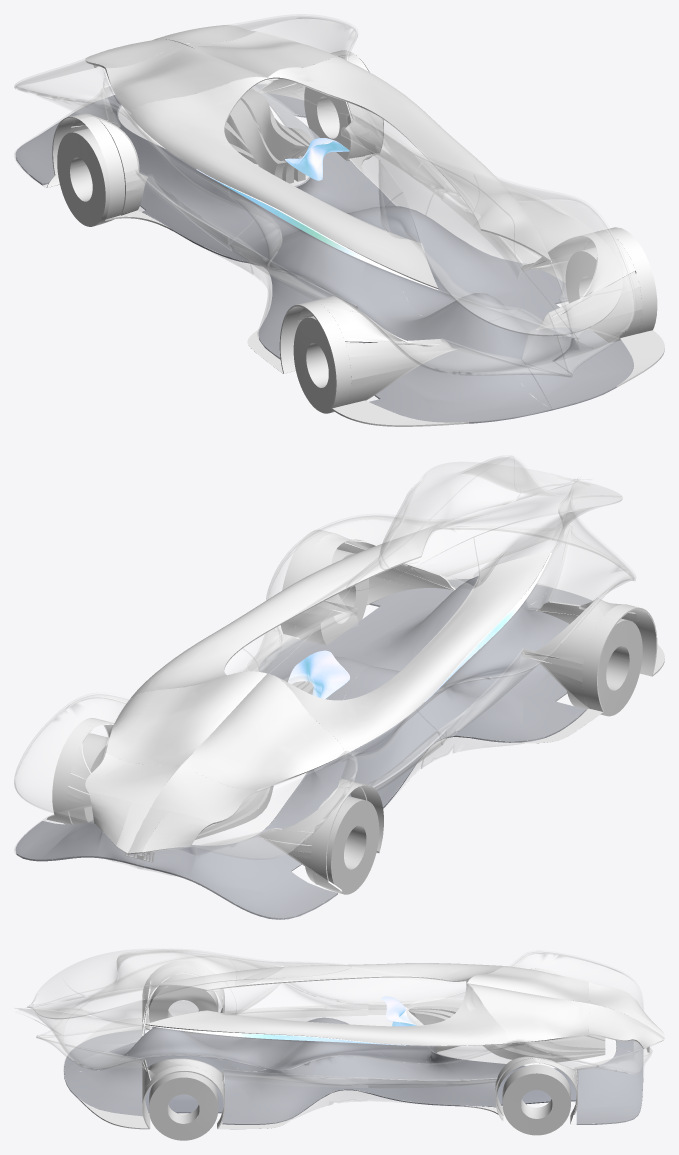
The model's file is XYZ008-glasser-v2.glb.
3 renders of one model, top to bottom at view 1: azimuth 30°, elevation 25°; view 2: azimuth 150°, elevation 25°; view 3: azimuth 270°, elevation 25°, orthographic. The views are drawn at different scales.
Parts seen in each view (by area): view 1: ARAC, Merged Objects 7, Merged Objects 8; view 2: ARAC, Merged Objects 7, Merged Objects 8; view 3: ARAC, Merged Objects 7, Merged Objects 8.
Part boxes in pixels (x1=…): ARAC: x1=14, y1=14, x2=664, y2=426; Merged Objects 7: x1=57, y1=87, x2=635, y2=413; Merged Objects 8: x1=196, y1=138, x2=551, y2=289; ARAC: x1=14, y1=455, x2=664, y2=919; Merged Objects 7: x1=64, y1=549, x2=642, y2=894; Merged Objects 8: x1=288, y1=553, x2=551, y2=701; ARAC: x1=15, y1=948, x2=664, y2=1129; Merged Objects 7: x1=149, y1=974, x2=649, y2=1140; Merged Objects 8: x1=145, y1=996, x2=417, y2=1045.
Size of the model in its own units: 2.57 by 1.48 by 6.37.
9 materials, 1 textured.
